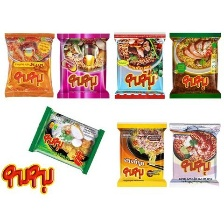snack: (24, 103, 108, 178), (52, 29, 113, 103), (109, 30, 169, 104), (164, 119, 223, 194), (165, 29, 223, 104), (114, 118, 171, 194), (0, 28, 57, 104)
